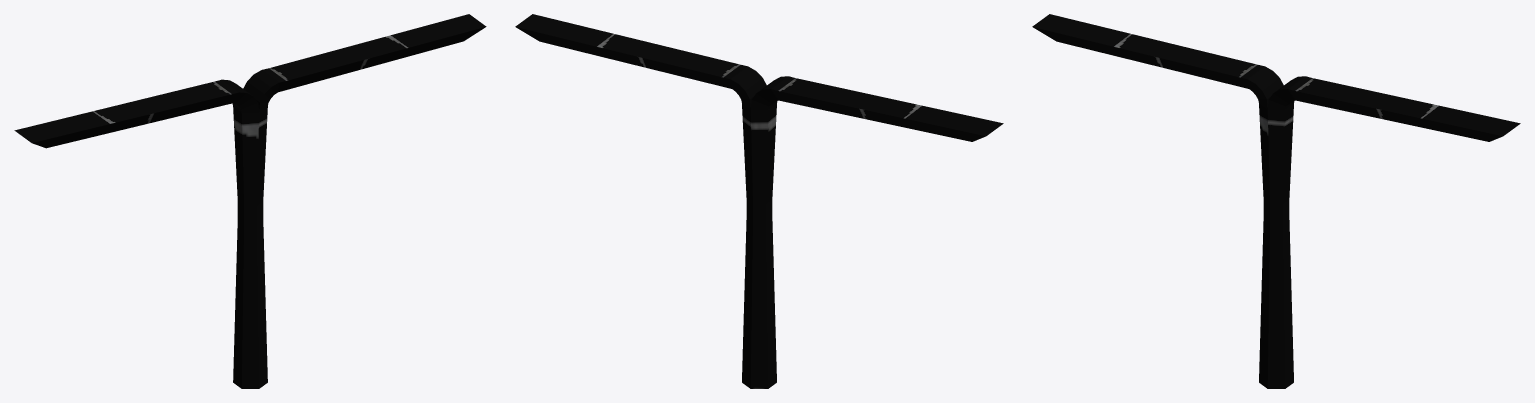
The model's file is Poste.fbx.
3 renders of one model, left to right at view 1: azimuth 30°, elevation 25°; view 2: azimuth 150°, elevation 25°; view 3: azimuth 330°, elevation 25°, orthographic.
Parts seen in each view (by area): view 1: Cube; view 2: Cube; view 3: Cube.
Part boxes in pixels (x1,y1,x2,y2): Cube: (14,14,486,388); Cube: (515,14,1003,388); Cube: (1032,14,1520,388).
Size of the model in its own units: 379 by 239 by 32.88.
